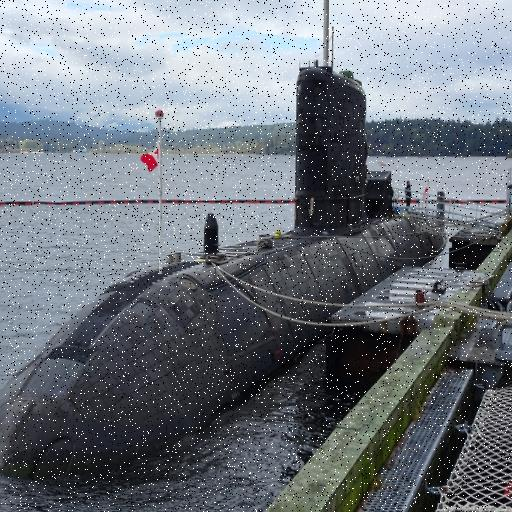submarine: (1, 64, 447, 453)
